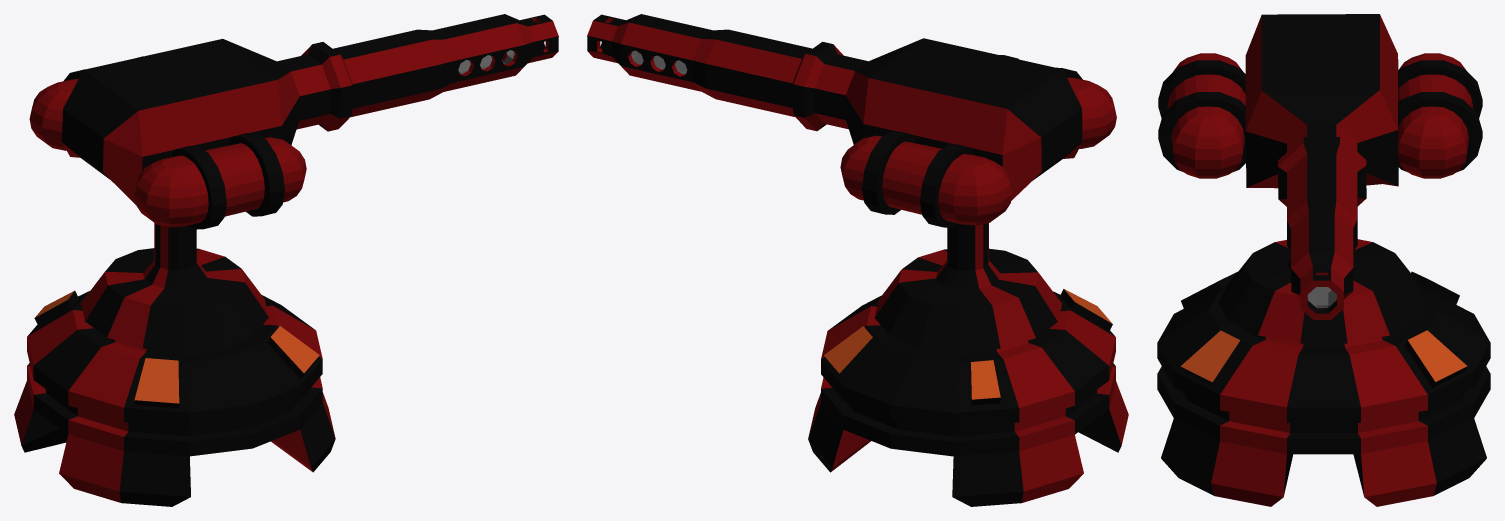
File: lanzallamas.fbx
3 renders of one model, left to right at view 1: azimuth 30°, elevation 25°; view 2: azimuth 150°, elevation 25°; view 3: azimuth 270°, elevation 25°, orthographic. The views are drawn at different scales.
Visible parts, largest first — view 1: parte_abajo, parte_arriba; view 2: parte_abajo, parte_arriba; view 3: parte_abajo, parte_arriba.
Boxes of the visible parts, <box> form: parte_abajo: <box>14,223,335,506</box>; parte_arriba: <box>29,14,558,229</box>; parte_abajo: <box>808,223,1128,506</box>; parte_arriba: <box>587,14,1116,227</box>; parte_abajo: <box>1157,239,1490,506</box>; parte_arriba: <box>1158,14,1482,319</box>.
Bounding box in the file's own units: 2660 × 1838 × 1412.
